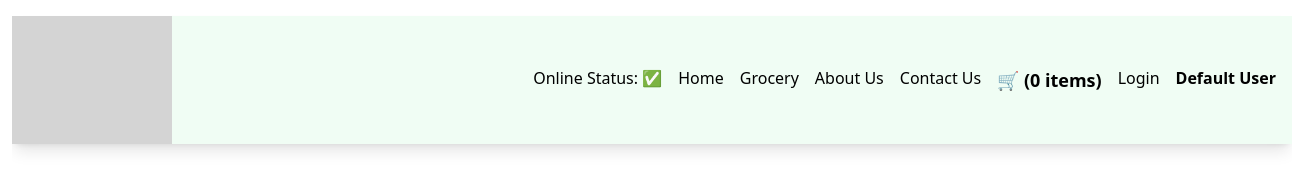
Test: should change the text login to logout when login button is clicked
The width and height of the screenshot is (1292, 170).
Click the button "Login": (1139, 78) [1118, 66, 1160, 90]
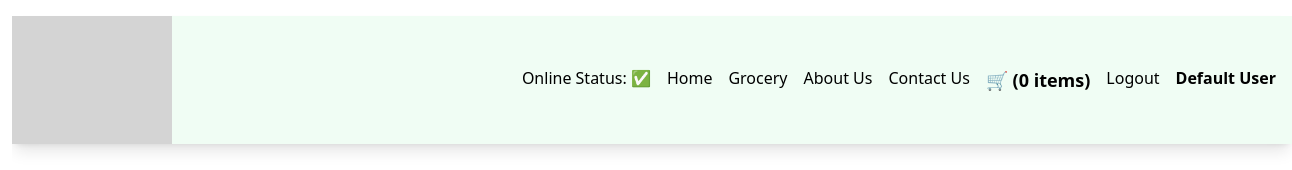
Expected: the button "Logout" is shown, [1106, 66, 1160, 90]
